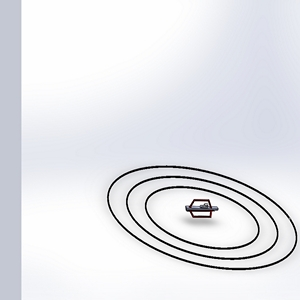circle: (102, 154, 300, 281)
submarine: (179, 193, 222, 228)
